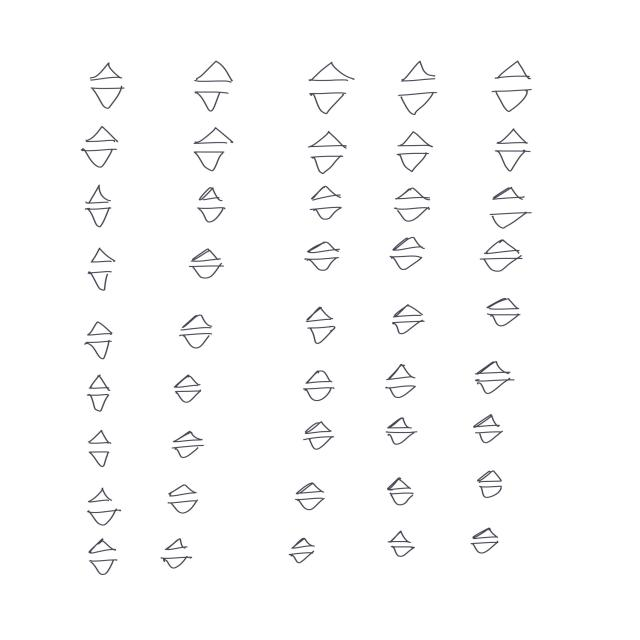IncDec: (295, 57, 354, 124), (76, 51, 128, 118), (182, 55, 235, 118), (66, 249, 126, 302), (478, 180, 540, 231), (483, 55, 533, 117), (181, 180, 240, 230), (382, 181, 442, 228), (291, 129, 350, 176), (480, 127, 534, 176), (381, 128, 442, 171), (393, 55, 433, 120), (172, 307, 222, 359), (73, 183, 127, 231), (468, 358, 521, 401), (77, 121, 127, 166), (290, 186, 351, 222), (384, 298, 433, 342), (163, 370, 218, 409), (190, 124, 235, 171), (378, 361, 425, 404), (79, 318, 121, 366), (465, 462, 514, 503), (470, 238, 524, 275), (182, 248, 236, 284), (478, 297, 530, 334), (292, 368, 344, 404), (379, 414, 428, 452), (84, 487, 126, 528), (79, 373, 116, 419), (378, 530, 424, 567), (302, 305, 337, 353), (291, 421, 339, 456), (83, 534, 122, 576), (158, 536, 200, 575), (379, 472, 418, 513), (386, 234, 428, 272), (85, 427, 117, 474), (162, 481, 202, 518), (164, 426, 206, 461), (467, 412, 510, 446), (301, 241, 346, 272), (288, 480, 328, 510), (284, 535, 318, 569)
